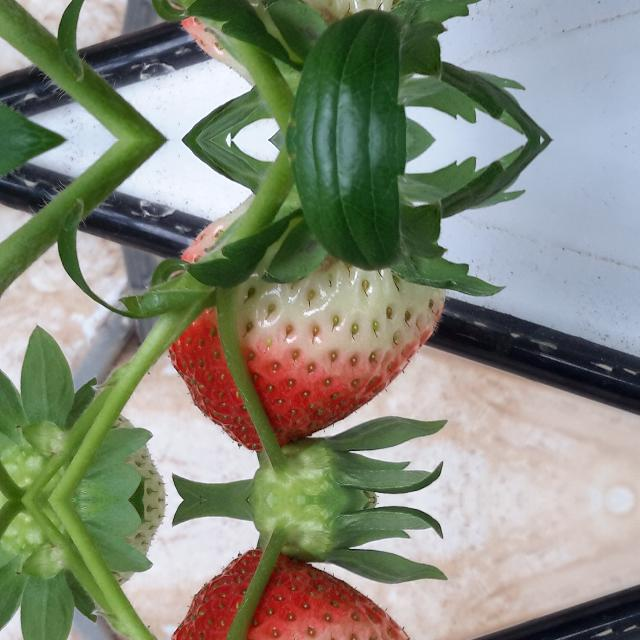Health_75: (168, 195, 446, 450), (167, 550, 446, 640), (167, 0, 446, 85)
